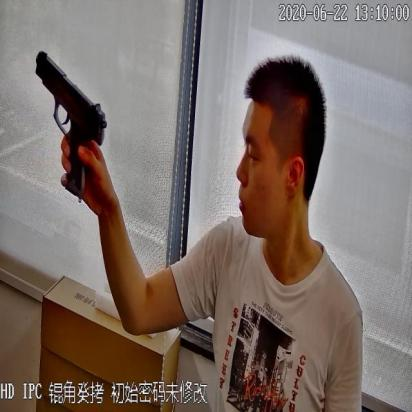Gun: (30, 42, 108, 188)
